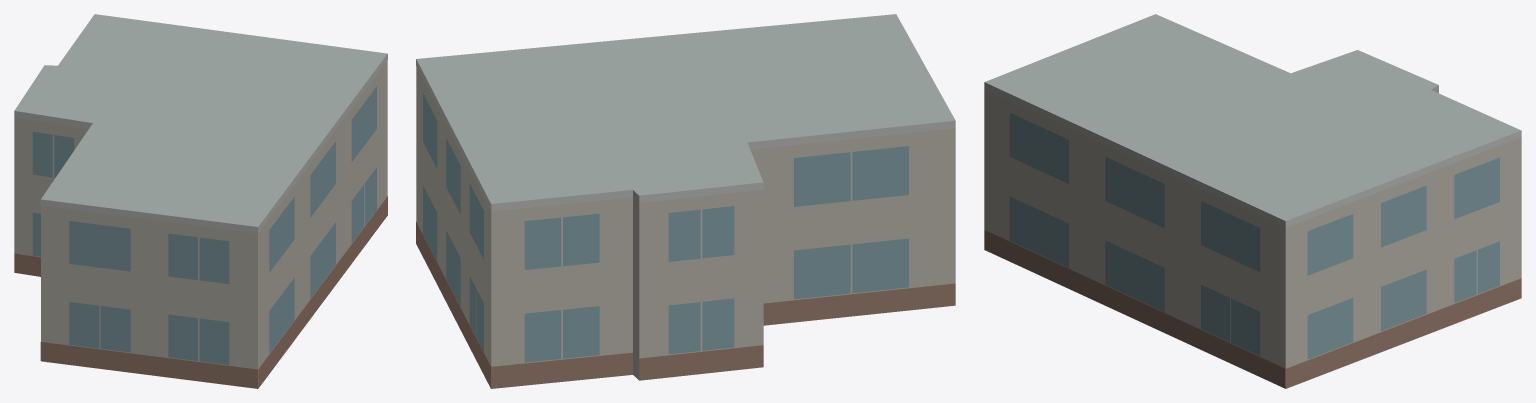
File: survey-upis-32546317.glb
3 renders of one model, left to right at view 1: azimuth 30°, elevation 25°; view 2: azimuth 150°, elevation 25°; view 3: azimuth 270°, elevation 25°, orthographic. The views are drawn at different scales.
Visible parts, largest first — view 1: survey-upis-32546317.tmp; view 2: survey-upis-32546317.tmp; view 3: survey-upis-32546317.tmp.
Part boxes in pixels (x1,y1,x2,y2): survey-upis-32546317.tmp: (14, 14, 387, 388); survey-upis-32546317.tmp: (416, 14, 955, 388); survey-upis-32546317.tmp: (984, 14, 1521, 388).
Size of the model in its own units: 16.16 by 6.1 by 17.71.
